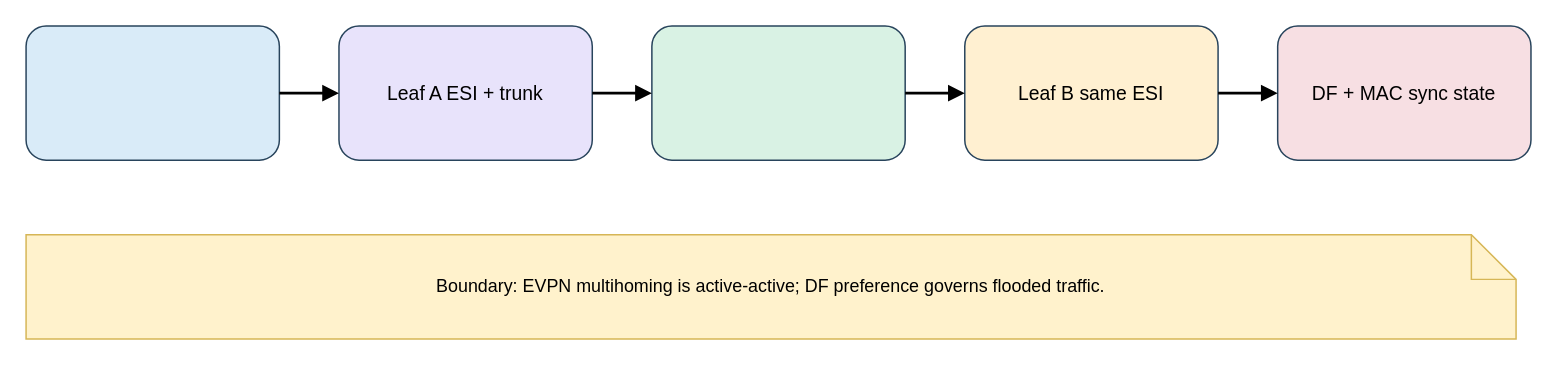
This 1557x365 diagram has some shape labels left out. Each missing label, with the centre of its shape:
"Dual-homed server / CE" goes at (x=152, y=92).
"EVPN control plane / VXLAN" goes at (x=777, y=92).
